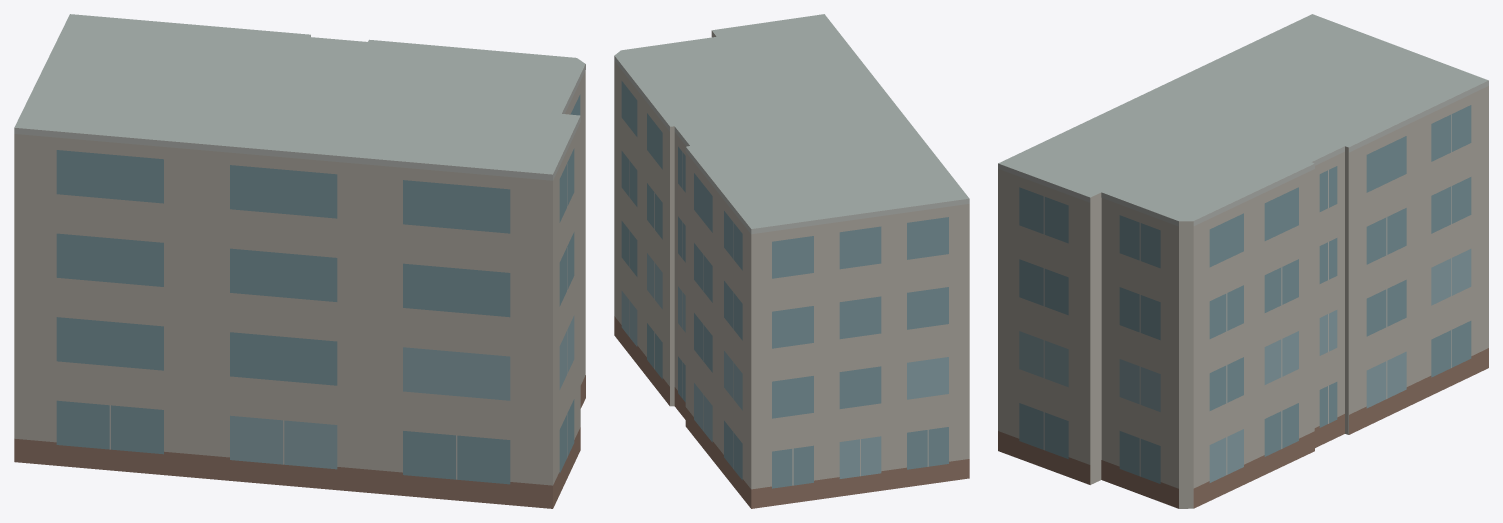
File: survey-upis-32673768.glb
3 renders of one model, left to right at view 1: azimuth 30°, elevation 25°; view 2: azimuth 150°, elevation 25°; view 3: azimuth 270°, elevation 25°, orthographic. The views are drawn at different scales.
Visible parts, largest first — view 1: survey-upis-32673768.tmp; view 2: survey-upis-32673768.tmp; view 3: survey-upis-32673768.tmp.
Boxes of the visible parts, x1,y1,x2,y2 form: survey-upis-32673768.tmp: (14,14,585,508); survey-upis-32673768.tmp: (614,14,969,508); survey-upis-32673768.tmp: (998,14,1488,508).
Bounding box in the file's own units: 20.5 × 13.25 × 20.5.
